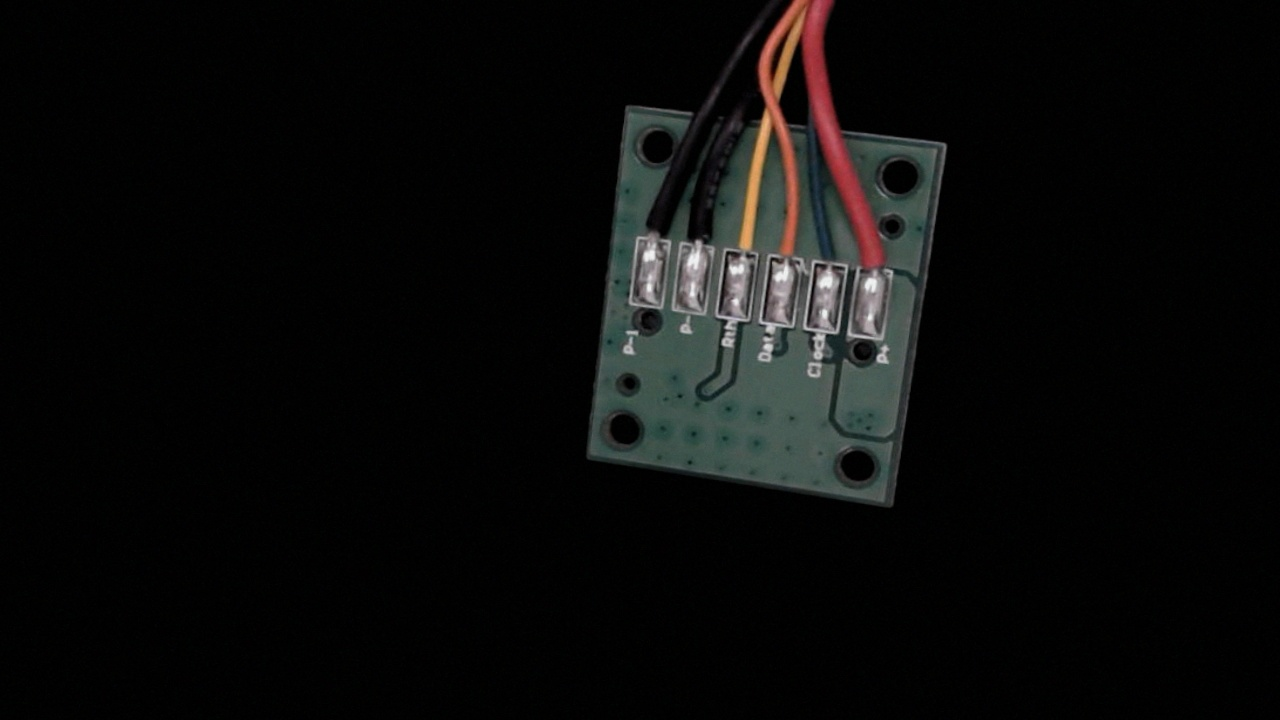Black: (675, 179, 727, 266)
Black1: (630, 178, 680, 259)
Green: (810, 214, 857, 287)
Orange: (764, 194, 815, 280)
Red: (854, 207, 907, 291)
Yellow: (722, 185, 774, 273)
